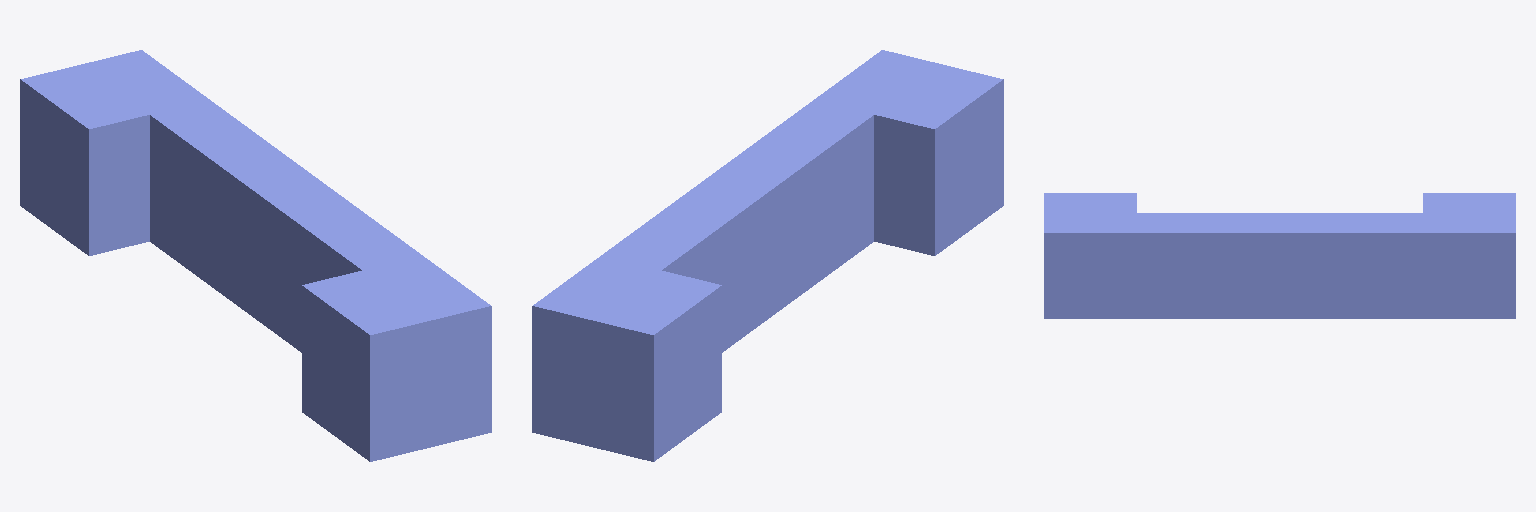
The robot description file, URDF, robot "obj_7":
<robot name="obj_7" version="1.0">
  <link name="obj_7_link">
    <collision name="obj_7_collision_1">
      <origin rpy="3.14159 -1.57080 3.14159" xyz="-0.61451 0.74246 1.51080"/>
      <geometry>
        <mesh filename="../meshes/obj/Cube.020.obj" scale="1.00000 0.98000 1.00000"/>
      </geometry>
    </collision>
    <collision name="obj_7_collision_2">
      <origin rpy="3.14159 -1.57080 3.14159" xyz="-0.61451 3.75762 1.51038"/>
      <geometry>
        <mesh filename="../meshes/obj/Cube.021.obj" scale="1.00000 0.98000 1.00000"/>
      </geometry>
    </collision>
    <collision name="obj_7_collision_3">
      <origin rpy="3.14159 -1.57080 3.14159" xyz="-0.42691 2.24870 1.51102"/>
      <geometry>
        <mesh filename="../meshes/obj/Cube.022.obj" scale="2.00000 6.08000 1.00000"/>
      </geometry>
    </collision>
    <inertial>
      <inertia ixx="6.65506" ixy="0.00000" ixz="-0.00000" iyy="0.48424" iyz="-0.00000" izz="6.58953"/>
      <origin rpy="0.00000 0.00000 0.00000" xyz="-0.53200 2.25000 1.51000"/>
      <mass value="5.00000"/>
    </inertial>
    <visual name="obj_7">
      <material name="turnaxis"/>
      <origin rpy="3.14159 -1.57080 3.14159" xyz="-0.53200 2.25000 1.51000"/>
      <geometry>
        <mesh filename="../meshes/obj/luban-lock-sliding.006.obj" scale="0.05000 0.05000 0.05000"/>
      </geometry>
    </visual>
  </link>
  <material name="turnaxis">
    <color rgba="0.63922 0.70196 1.00000 1.00000"/>
  </material>
</robot>

--- What the picture shows (computed from the rendered views, not written in the file) ---
Views: 3 orthographic renders of the robot side by side, from view 1: azimuth 30°, elevation 25°; view 2: azimuth 150°, elevation 25°; view 3: azimuth 270°, elevation 25°.
Model obj_7 with 1 links and 0 joints (none), rooted at obj_7_link, posed all joints at 0.
Visible links, largest first — view 1: obj_7_link; view 2: obj_7_link; view 3: obj_7_link.
Boxes of the visible links, x1,y1,x2,y2 form: obj_7_link: (20, 50, 491, 461); obj_7_link: (532, 50, 1003, 461); obj_7_link: (1044, 193, 1515, 318).
Bounding box of the posed robot: 0.75 × 3.75 × 0.75 m (x, y, z).
Meshes: 1 distinct files referenced, 1 mesh visuals loaded (1 OBJ).